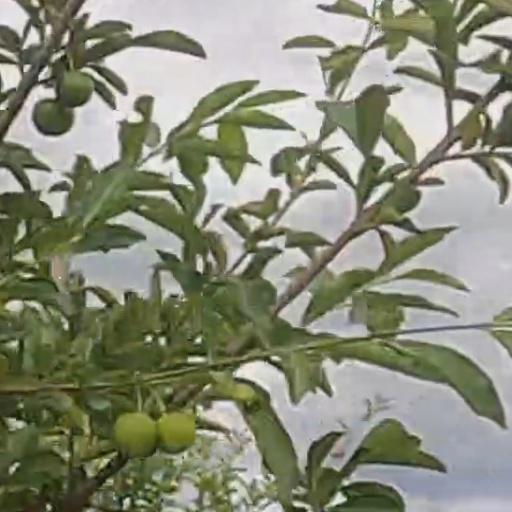acerola: (115, 414, 154, 455), (157, 413, 193, 450), (35, 104, 69, 133), (62, 76, 92, 104)
